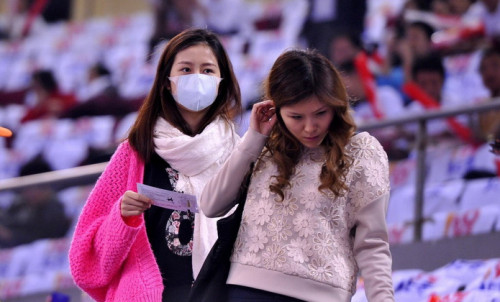face: (279, 95, 337, 147)
face_mask: (170, 47, 221, 109)
